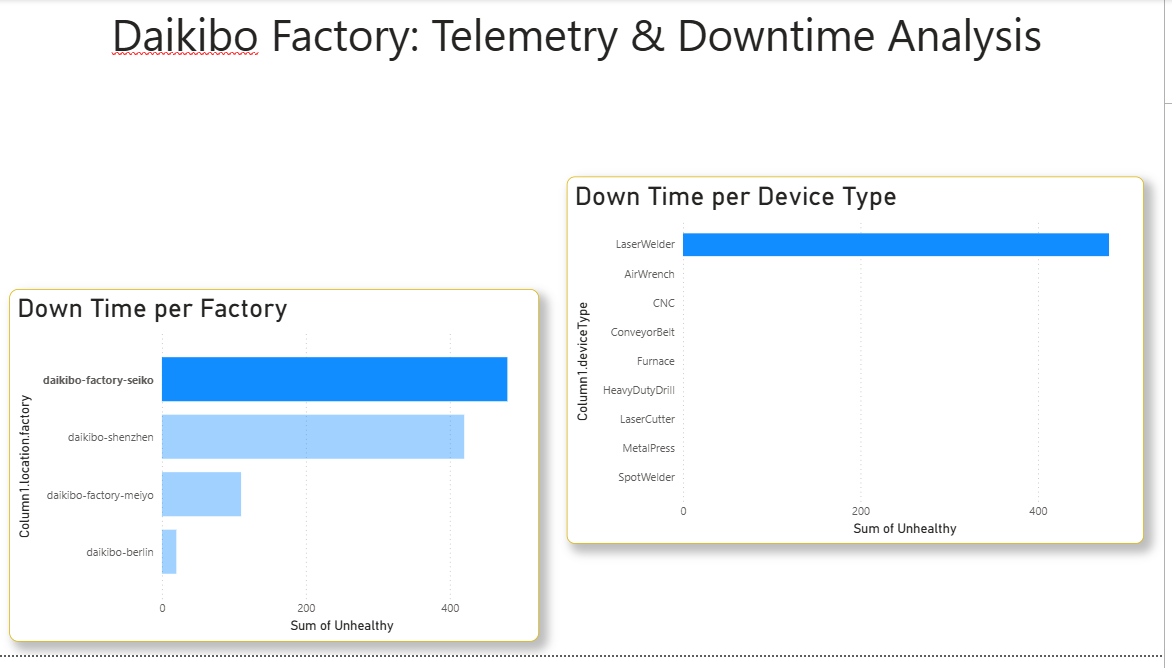

The dashboard page shown, as its layout file describes it:
{"tool":"powerbi","page":{"name":"Page 1","canvas":[1280,720],"ordinal":0},"visuals":[{"type":"clusteredBarChart","title":"Down Time per Factory","fields":{"Category":["daikibo-telemetry-data.Column1.location.factory"],"Y":["Sum(daikibo-telemetry-data.Unhealthy)"]},"box":[12.3,318.4,581.8,387],"z":0},{"type":"clusteredBarChart","title":"Down Time per Device Type","fields":{"Category":["daikibo-telemetry-data.Column1.deviceType"],"Y":["Sum(daikibo-telemetry-data.Unhealthy)"]},"box":[624.4,194.9,634,403.4],"z":1},{"type":"textbox","box":[12.3,0,1246,112.5],"z":2}]}

Visuals, with their boxes in screenshot pixels (x1, y1, x2, y2), scaled from the page's 1280x720 canvas onto the 1172x668 screenshot:
"Down Time per Factory" clusteredBarChart: bbox=(11, 295, 544, 654)
"Down Time per Device Type" clusteredBarChart: bbox=(572, 181, 1152, 555)
textbox: bbox=(11, 0, 1152, 104)
